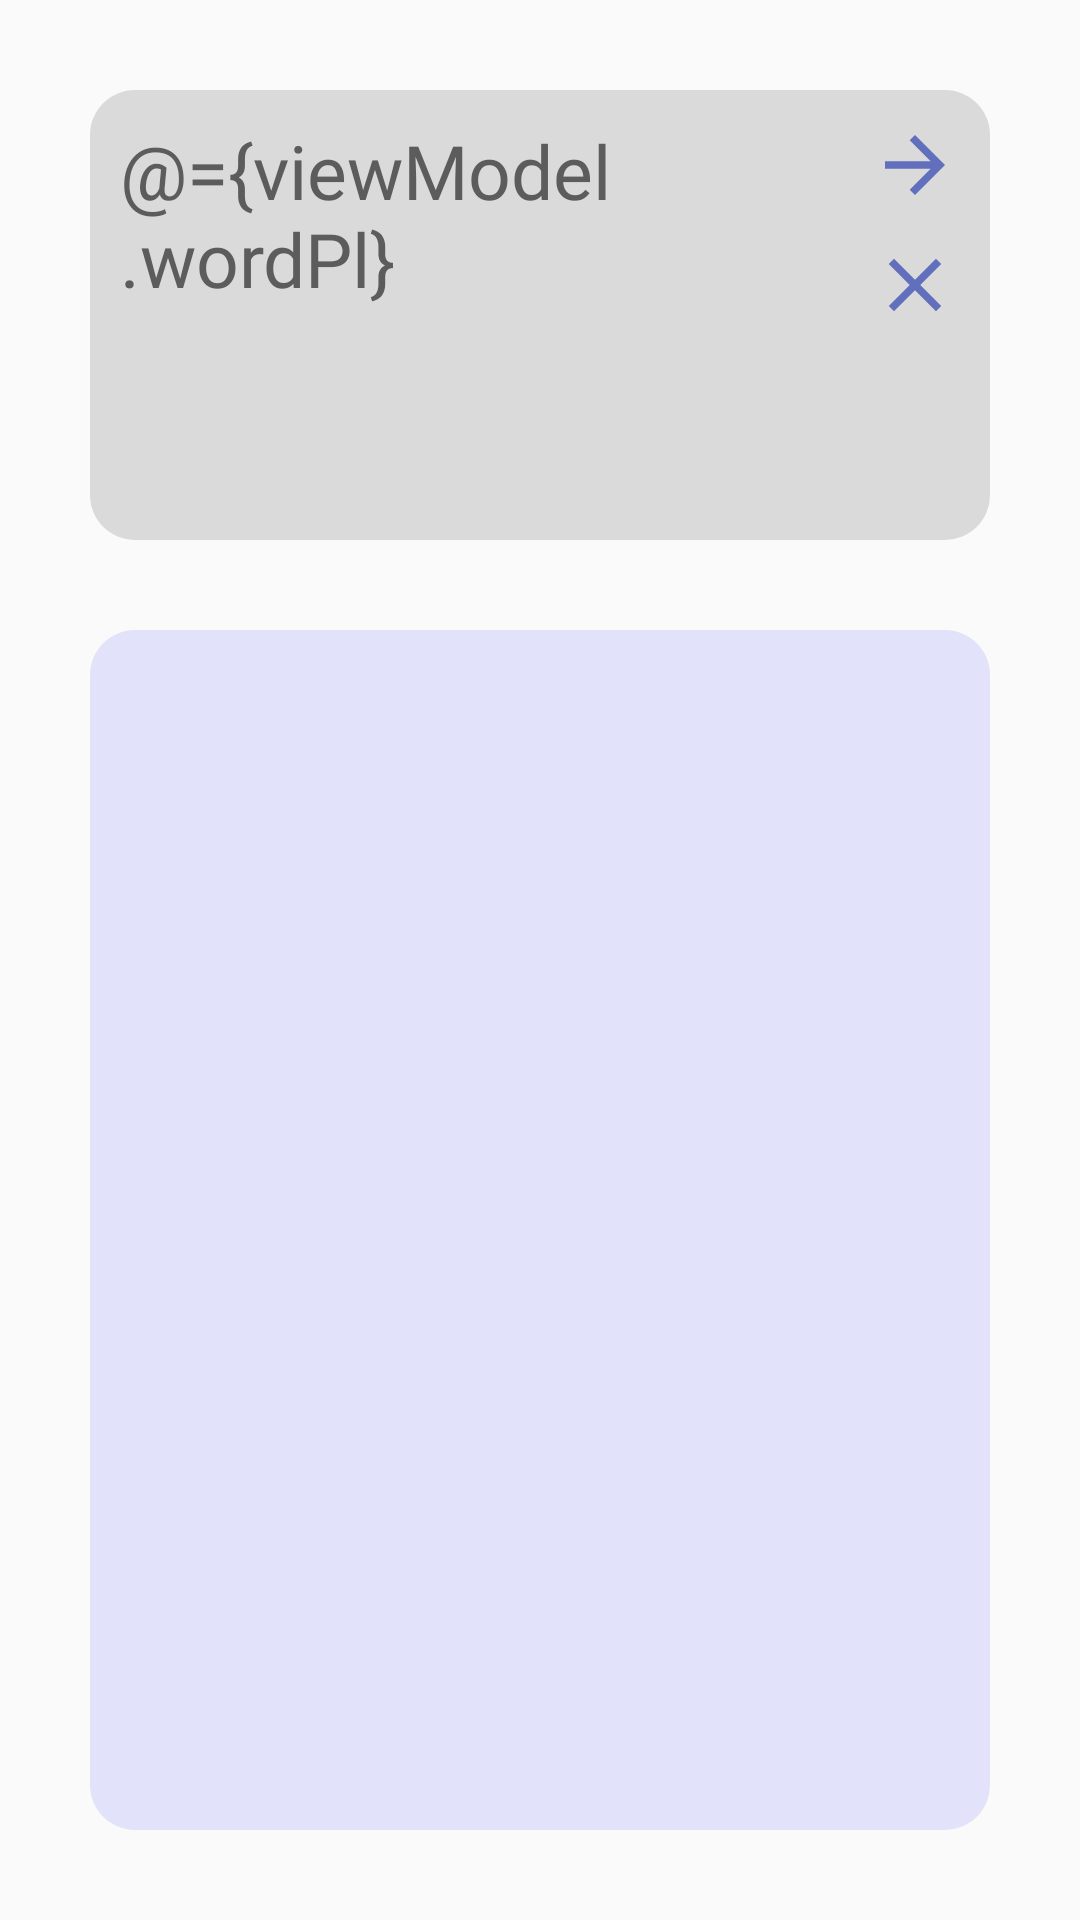

Named icons in this screenshot (1080*1920) and their centers, (x,y):
arrow forward: (915,165)
clear: (915,285)
